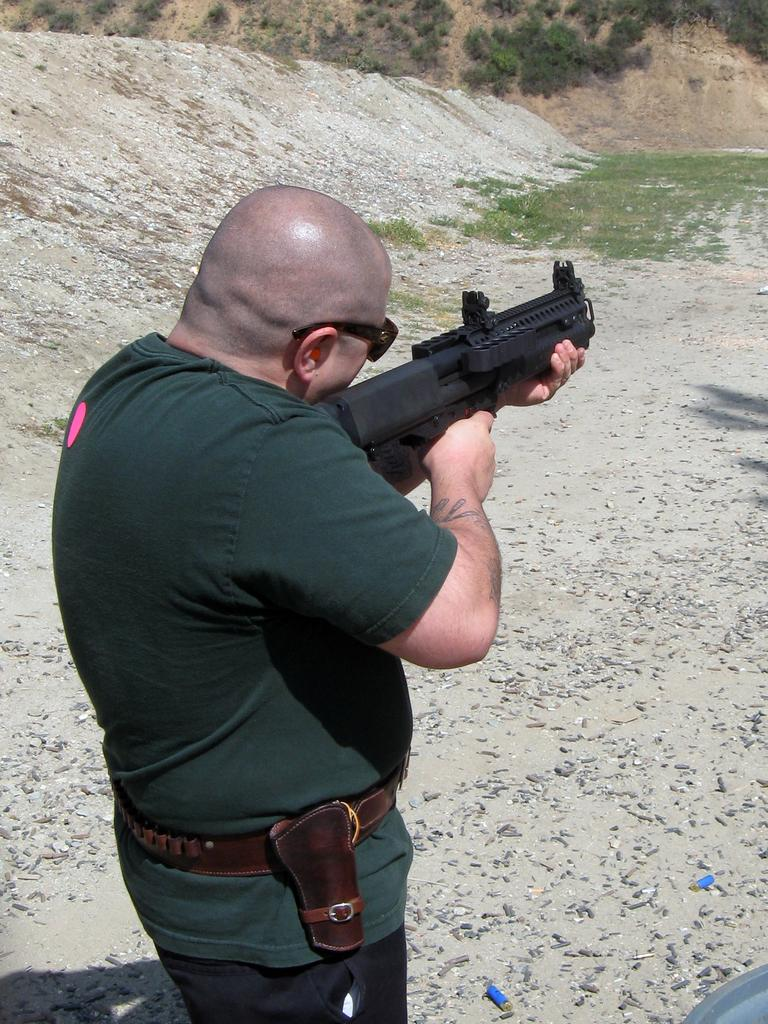Rifle: (280, 247, 614, 486)
